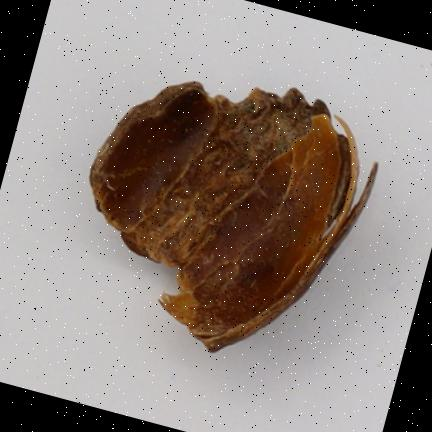husk: (90, 81, 377, 351)
